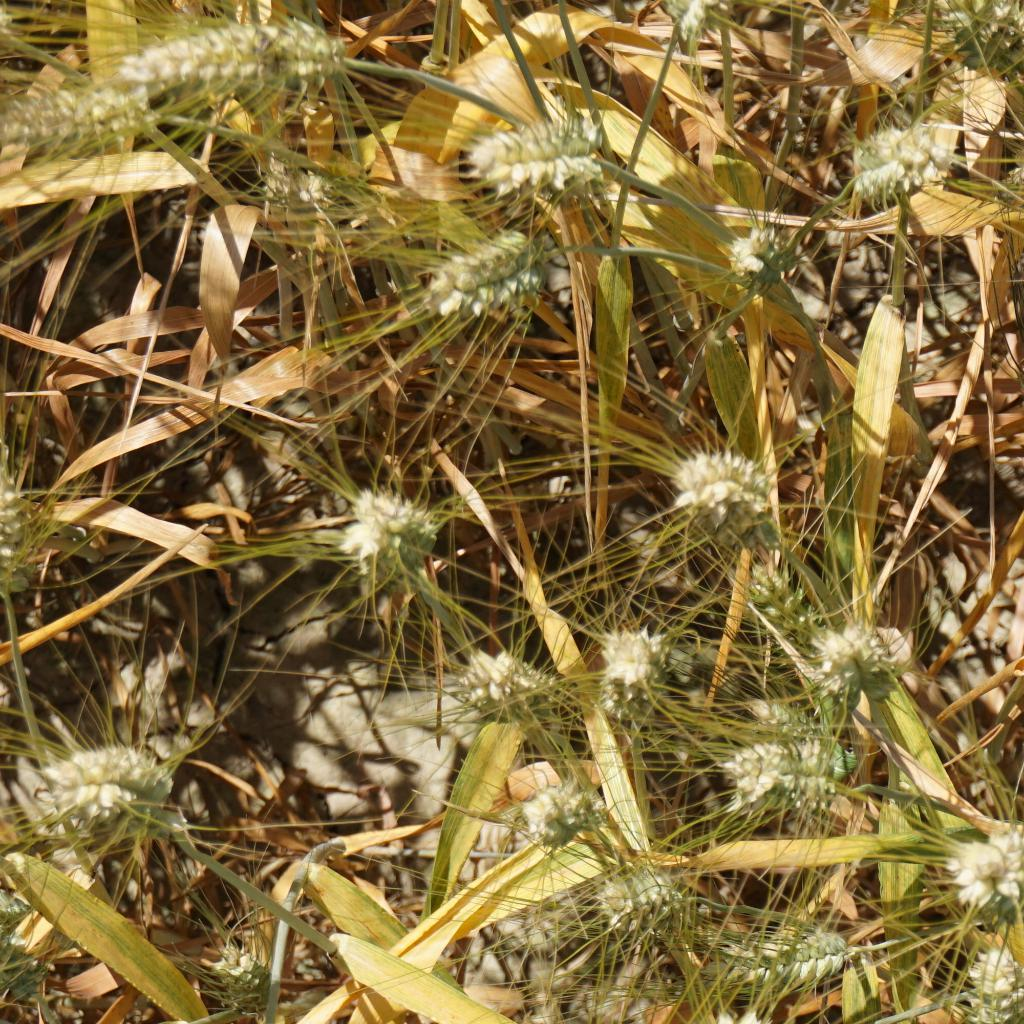0-0: (103, 17, 353, 90), (240, 135, 401, 245), (657, 449, 800, 567), (36, 739, 190, 848), (697, 920, 871, 999), (460, 634, 568, 737), (423, 225, 545, 309), (0, 93, 178, 146), (812, 615, 909, 712), (666, 450, 775, 536), (949, 816, 1024, 937), (709, 735, 828, 811), (471, 118, 598, 188), (337, 487, 442, 571), (510, 772, 613, 852), (848, 116, 949, 195), (745, 563, 827, 648), (202, 936, 281, 1020), (595, 624, 662, 712), (707, 217, 792, 285), (942, 0, 1016, 69), (602, 875, 681, 937), (964, 951, 1024, 1024), (0, 918, 51, 997), (991, 104, 1024, 216), (0, 464, 30, 586), (739, 701, 815, 745), (0, 0, 30, 56)
